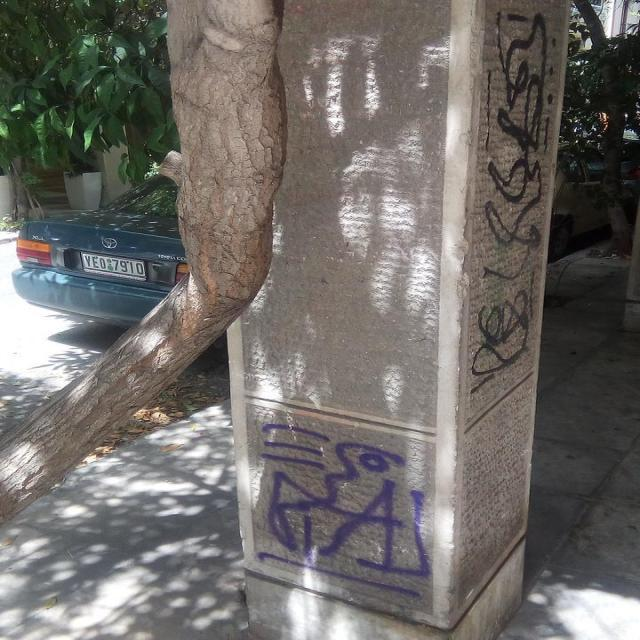nonspitting: (259, 420, 433, 598), (471, 12, 548, 395)
